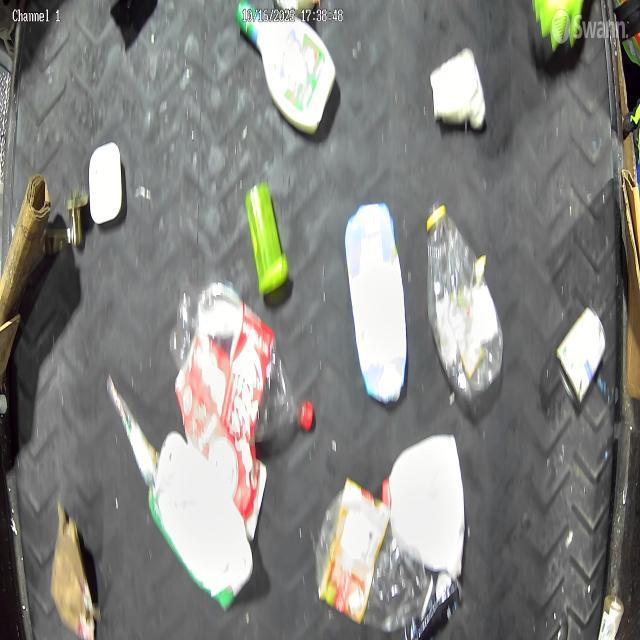can: (556, 310, 610, 400)
milk_jug: (388, 426, 464, 576)
plastic_bottle: (173, 282, 310, 432), (306, 470, 432, 630), (430, 207, 510, 406)
